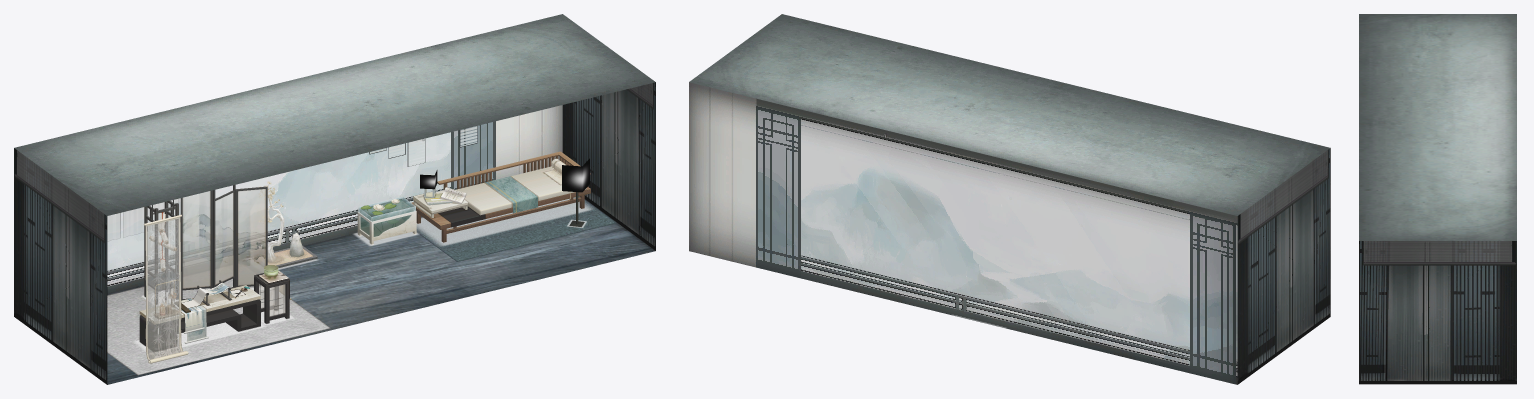
The model's file is inkArt.glb.
The picture shows the model from 3 angles, left to right: view 1: azimuth 30°, elevation 25°; view 2: azimuth 150°, elevation 25°; view 3: azimuth 270°, elevation 25°; orthographic projection. The views are drawn at different scales.
Visible parts, largest first — view 1: ROOM_room, ROOM_floor, furni_inkArt_carpet_01, furni_inkArt_screen1_02, furni_inkArt_bed_01, furni_inkArt_carpet2_01, furni_inkArt_bambooInkArt_02, furni_inkArt_table_01, shadow.008, furni_inkArt_table_02, furni_inkArt_screen1_01, ROOM_LDoor (+14 smaller); view 2: ROOM_room, ROOM_LDoor; view 3: ROOM_room, ROOM_RDoor.
Part boxes in pixels (box(x1,y1,x2,y2)): ROOM_room: box(14, 14, 655, 384); ROOM_floor: box(107, 199, 655, 384); furni_inkArt_carpet_01: box(107, 278, 330, 375); furni_inkArt_screen1_02: box(182, 189, 265, 288); furni_inkArt_bed_01: box(410, 151, 590, 242); furni_inkArt_carpet2_01: box(416, 196, 616, 261); furni_inkArt_bambooInkArt_02: box(145, 217, 183, 360); furni_inkArt_table_01: box(139, 285, 260, 351); shadow.008: box(416, 197, 592, 246); furni_inkArt_table_02: box(154, 280, 249, 343); furni_inkArt_screen1_01: box(180, 185, 267, 300); ROOM_LDoor: box(74, 284, 93, 374); ROOM_room: box(689, 14, 1330, 384); ROOM_LDoor: box(1298, 250, 1316, 340); ROOM_room: box(1359, 14, 1516, 384); ROOM_RDoor: box(1382, 319, 1414, 384).
Bounding box in the file's own units: 7.53 × 2.21 × 2.24.
8 materials, 8 textured.
